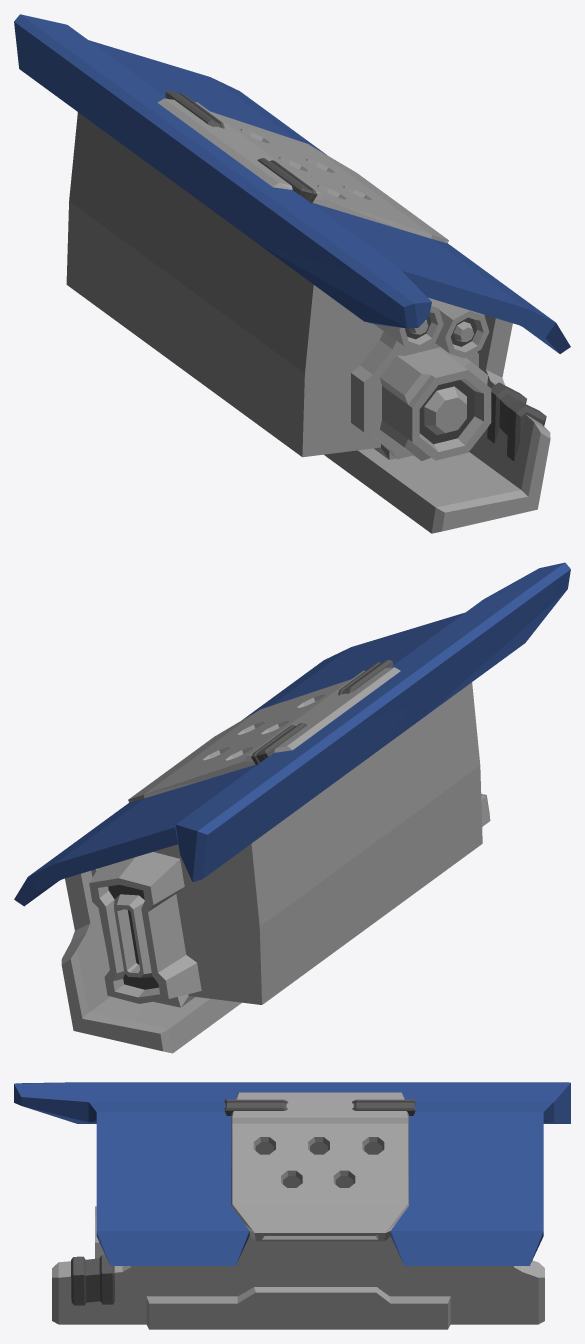
File: Hangar_EnginePart_01.fbx
The picture shows the model from 3 angles, top to bottom: view 1: azimuth 30°, elevation 25°; view 2: azimuth 150°, elevation 25°; view 3: azimuth 270°, elevation 25°; orthographic projection. The views are drawn at different scales.
Parts seen in each view (by area): view 1: EnginePart_01; view 2: EnginePart_01; view 3: EnginePart_01.
Boxes of the visible parts, box(x1,y1,x2,y2) form: EnginePart_01: box(14, 14, 570, 533); EnginePart_01: box(14, 562, 570, 1053); EnginePart_01: box(14, 1082, 570, 1329).
Bounding box in the file's own units: 534 × 588 × 1540.
